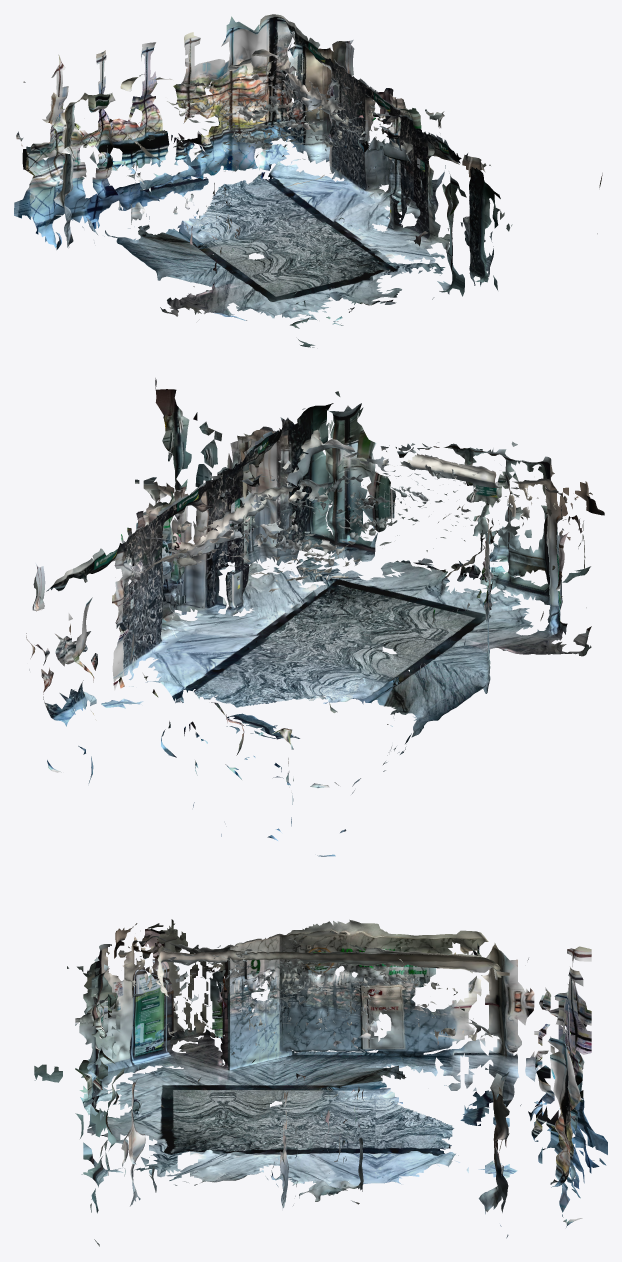
Rendered from 147397-TLT9DepanLift-tex.glb.
The picture shows the model from 3 angles, top to bottom: view 1: azimuth 30°, elevation 25°; view 2: azimuth 150°, elevation 25°; view 3: azimuth 270°, elevation 25°; orthographic projection. The views are drawn at different scales.
Visible parts, largest first — view 1: Node; view 2: Node; view 3: Node.
Boxes of the visible parts, bbox=[...] form: Node: bbox=[14, 14, 602, 347]; Node: bbox=[26, 378, 604, 856]; Node: bbox=[34, 919, 607, 1246].
Size of the model in its own units: 7.12 by 3.56 by 8.2.
Materials: 28 (28 with a texture image).
